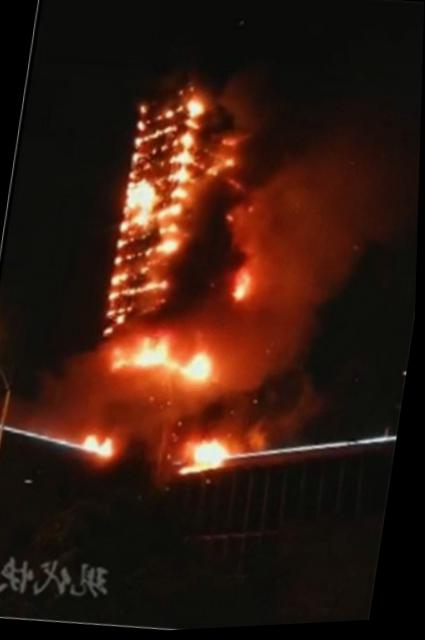fire: (73, 75, 290, 486)
